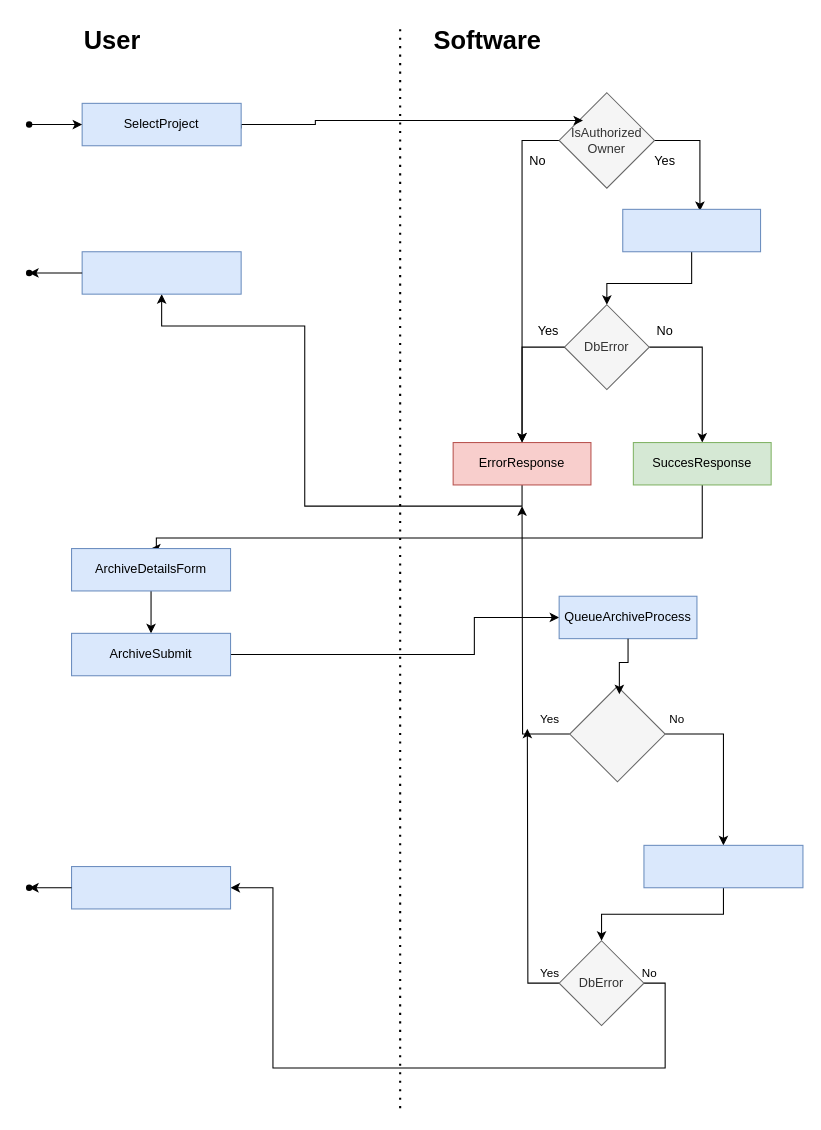
Image size: 821x1130. Some labels were removed from this diagram. The centre of each missing label's shape, as x and y in pixels:
"ArchiveError" belongs at (617,733).
"ErrorMessageView" belongs at (161,272).
"QueryDatabase" belongs at (691,230).
"SuccessView" belongs at (150,887).
"UpdateDatabase" belongs at (723,866).
